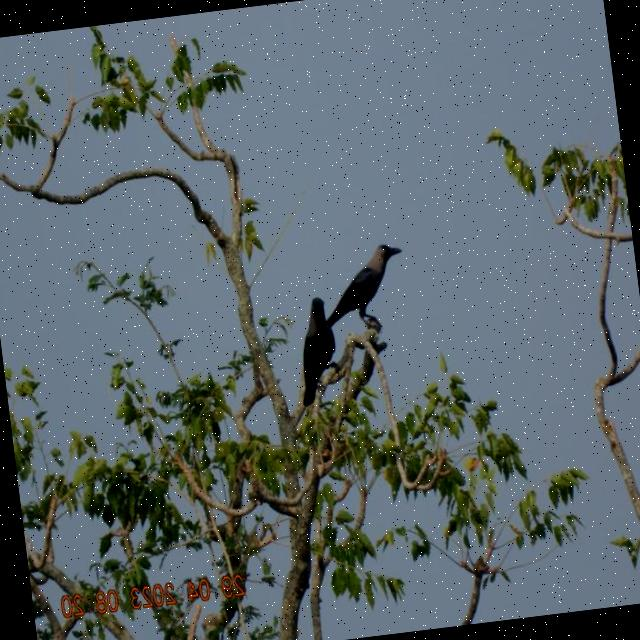crow: (312, 238, 413, 342), (286, 292, 348, 411)
